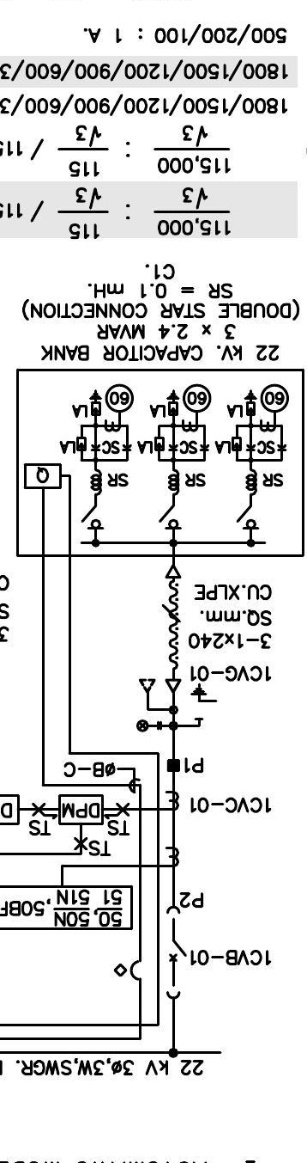22_breaker: (166, 905, 188, 1000)
22_cap_bank: (16, 368, 305, 558)
22_gs: (190, 682, 219, 721)
22_ll: (135, 719, 163, 733)
DPM: (57, 793, 104, 826)
Q: (23, 463, 62, 489)
terminator_single: (164, 564, 182, 579)
terminator_w_future: (138, 678, 182, 712)
